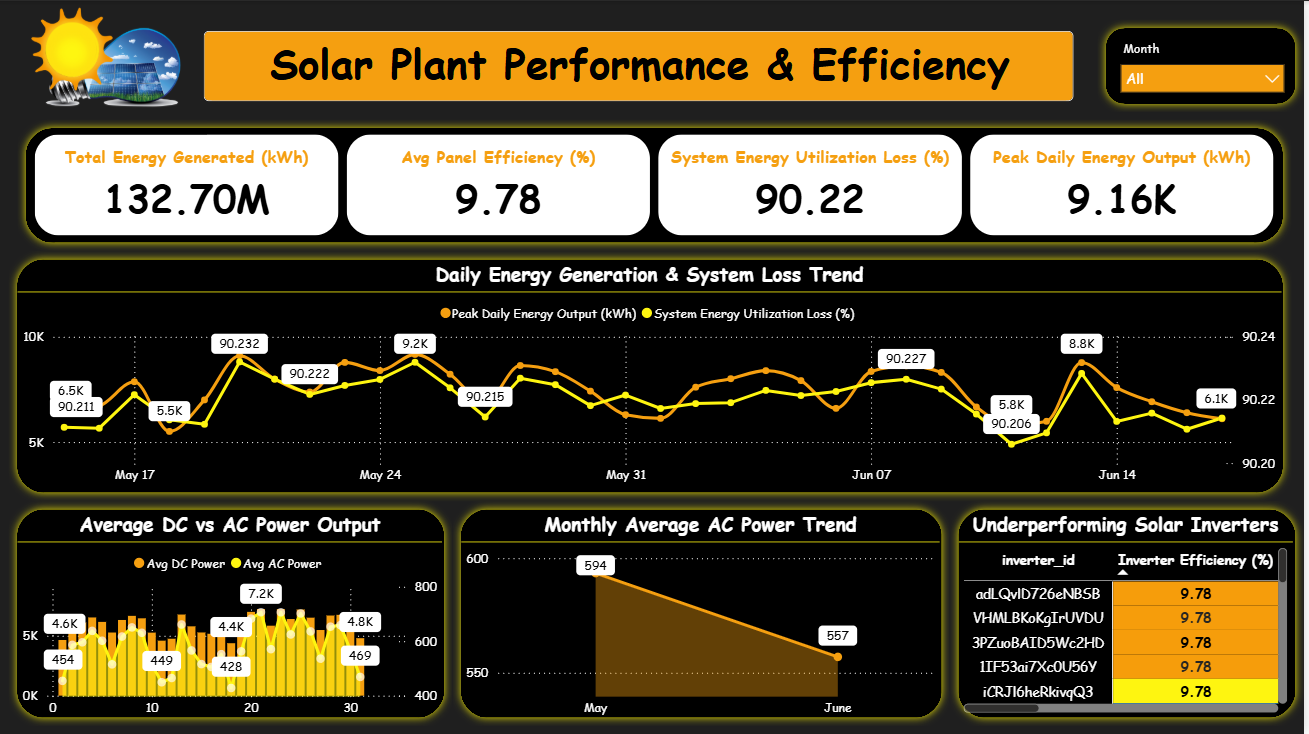

Layout of this report page (visuals, bound fields, positions):
{"tool":"powerbi","page":{"name":"dashboard","canvas":[1280,720],"ordinal":0},"visuals":[{"type":"image","box":[19.6,14.7,182.8,94.5],"z":0},{"type":"image","box":[0,0,142.3,93.3],"z":1000},{"type":"shape","box":[1077.3,18.4,202.5,90.8],"z":2000},{"type":"shape","box":[932.5,490.8,347.2,220.9],"z":3000},{"type":"shape","box":[444.2,490.8,488.3,220.9],"z":4000},{"type":"shape","box":[8.6,490.8,435.6,220.9],"z":5000},{"type":"shape","box":[8.6,245.4,1258.9,245.4],"z":6000},{"type":"shape","box":[17.2,116.6,1250.3,128.8],"z":7000},{"type":"textbox","title":"Solar Plant Performance & Efficiency Analysis Dashboard","box":[200,29.4,854,68.7],"z":8000},{"type":"cardVisual","fields":{"Data":["NEW_CALCULATIONS.Total Energy Generated (kWh)","NEW_CALCULATIONS.Avg Panel Efficiency (%)","NEW_CALCULATIONS.System Energy Utilization Loss (%)","NEW_CALCULATIONS.Peak Daily Energy Output (kWh)"]},"box":[17.2,114.1,1254,133.7],"z":9000},{"type":"lineChart","title":"Daily Energy Generation & System Loss Trend","fields":{"Category":["solardb fact_solar_generation.date.Variation.Date Hierarchy.Year","solardb fact_solar_generation.date.Variation.Date Hierarchy.Quarter","solardb fact_solar_generation.date.Variation.Date Hierarchy.Month","solardb fact_solar_generation.date.Variation.Date Hierarchy.Day"],"Y":["NEW_CALCULATIONS.Peak Daily Energy Output (kWh)"],"Y2":["NEW_CALCULATIONS.System Energy Utilization Loss (%)"]},"box":[17.2,254,1240.5,229.4],"z":10000},{"type":"slicer","fields":{"Values":["solardb fact_solar_generation.date.Variation.Date Hierarchy.Month"]},"box":[1089.6,33.1,181.6,60.1],"z":11000},{"type":"pivotTable","title":"Underperforming Solar Inverters","fields":{"Rows":["solardb fact_solar_generation.inverter_id"],"Values":["NEW_CALCULATIONS.Inverter Efficiency (%)","Avg(solardb fact_solar_generation.ac_power)","Avg(solardb fact_solar_generation.dc_power)","Avg(solardb fact_solar_generation.module_temperature)"]},"box":[941.1,499.4,327.6,203.7],"z":12000},{"type":"lineStackedColumnComboChart","title":"Average DC vs AC Power Output","fields":{"Category":["solardb fact_solar_generation.date.Variation.Date Hierarchy.Year","solardb fact_solar_generation.date.Variation.Date Hierarchy.Quarter","solardb fact_solar_generation.date.Variation.Date Hierarchy.Month","solardb fact_solar_generation.date.Variation.Date Hierarchy.Day"],"Y":["NEW_CALCULATIONS.Avg DC Power"],"Y2":["NEW_CALCULATIONS.Avg AC Power"]},"box":[17.2,499.4,417.2,212.3],"z":13000},{"type":"areaChart","title":"Monthly Average AC Power Trend","fields":{"Category":["solardb fact_solar_generation.date.Variation.Date Hierarchy.Month"],"Y":["NEW_CALCULATIONS.Avg AC Power"]},"box":[452.8,499.4,469.9,212.3],"z":14000}]}

Visuals, with their boxes in screenshot pixels (x1, y1, x2, y2), scaled from the page's 1280x720 canvas onto the 1309x734 screenshot:
image: locate(20, 15, 207, 111)
image: locate(0, 0, 146, 95)
shape: locate(1102, 19, 1308, 111)
shape: locate(954, 500, 1308, 726)
shape: locate(454, 500, 954, 726)
shape: locate(9, 500, 454, 726)
shape: locate(9, 250, 1296, 500)
shape: locate(18, 119, 1296, 250)
"Solar Plant Performance & Efficiency Analysis Dashboard" textbox: locate(205, 30, 1078, 100)
cardVisual - NEW_CALCULATIONS.Total Energy Generated (kWh) x NEW_CALCULATIONS.Avg Panel Efficiency (%): locate(18, 116, 1300, 253)
"Daily Energy Generation & System Loss Trend" lineChart: locate(18, 259, 1286, 493)
slicer - solardb fact_solar_generation.date.Variation.Date Hierarchy.Month: locate(1114, 34, 1300, 95)
"Underperforming Solar Inverters" pivotTable: locate(962, 509, 1297, 717)
"Average DC vs AC Power Output" lineStackedColumnComboChart: locate(18, 509, 444, 726)
"Monthly Average AC Power Trend" areaChart: locate(463, 509, 944, 726)
